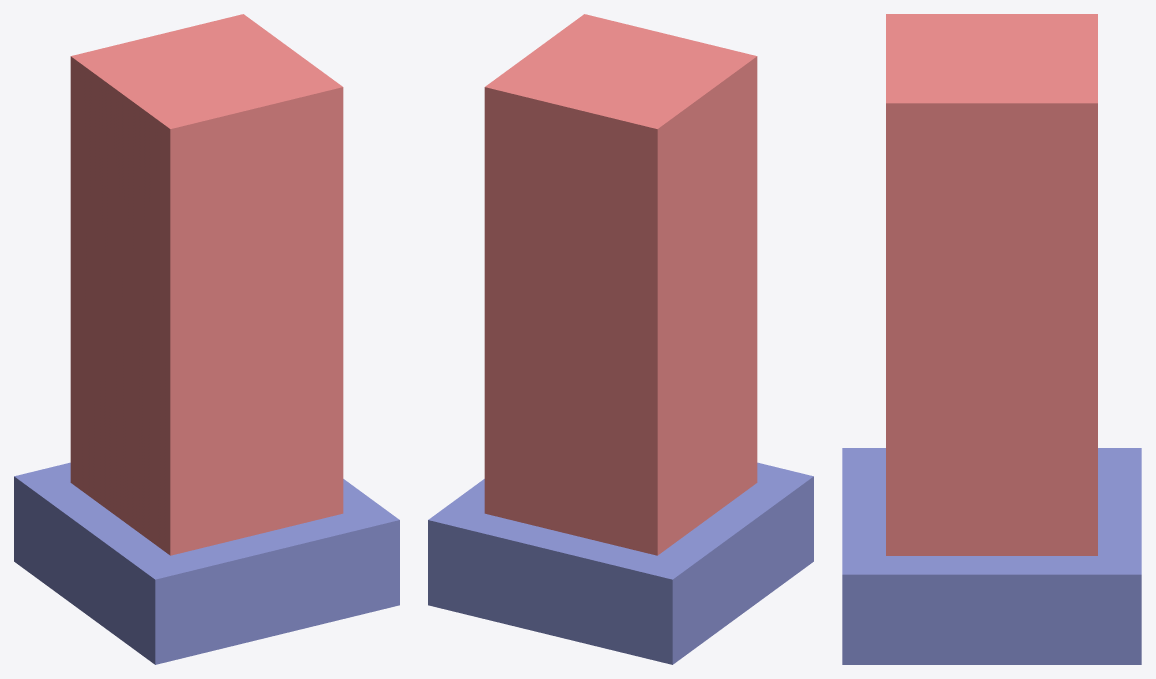
File: SupportBeam1.FBX
3 views of the same model, side by side, from view 1: azimuth 30°, elevation 25°; view 2: azimuth 150°, elevation 25°; view 3: azimuth 270°, elevation 25° (orthographic). The views are drawn at different scales.
Visible parts, largest first — view 1: SupportBeam1; view 2: SupportBeam1; view 3: SupportBeam1.
Part boxes in pixels (box(x1,y1,x2,y2)): SupportBeam1: box(14, 14, 399, 664); SupportBeam1: box(428, 14, 813, 664); SupportBeam1: box(842, 14, 1141, 664).
Size of the model in its own units: 150 by 300 by 150.
